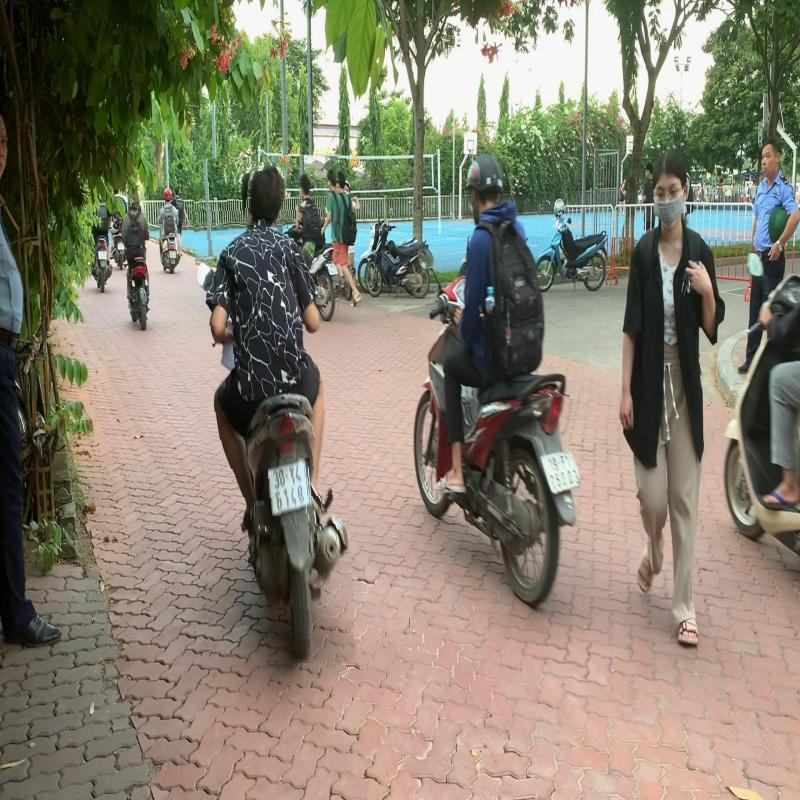licenseplate: (268, 458, 310, 516)
motorcyclist: (197, 155, 352, 665)
nohelmet: (246, 162, 286, 228)
